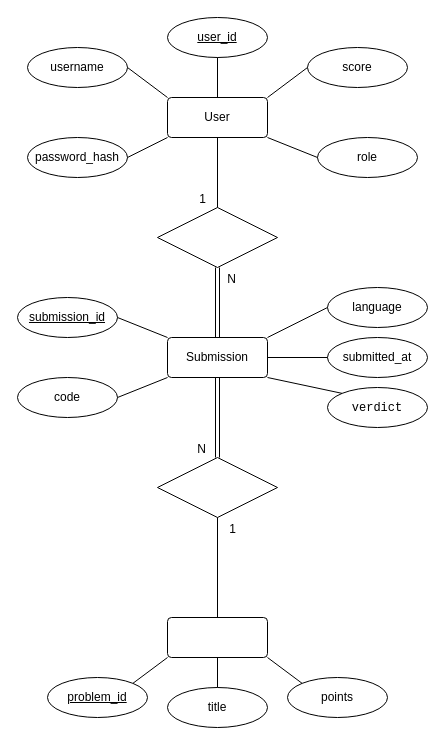
Some shapes in this 445 by 745 pixel diagram are drawn without their labels. The shapes that lost their labels are listed below. From the top down, each one's centre as x and y in pixels, then its label:
the point at 217,237: makes
the point at 217,487: for
the point at 217,637: Problem
